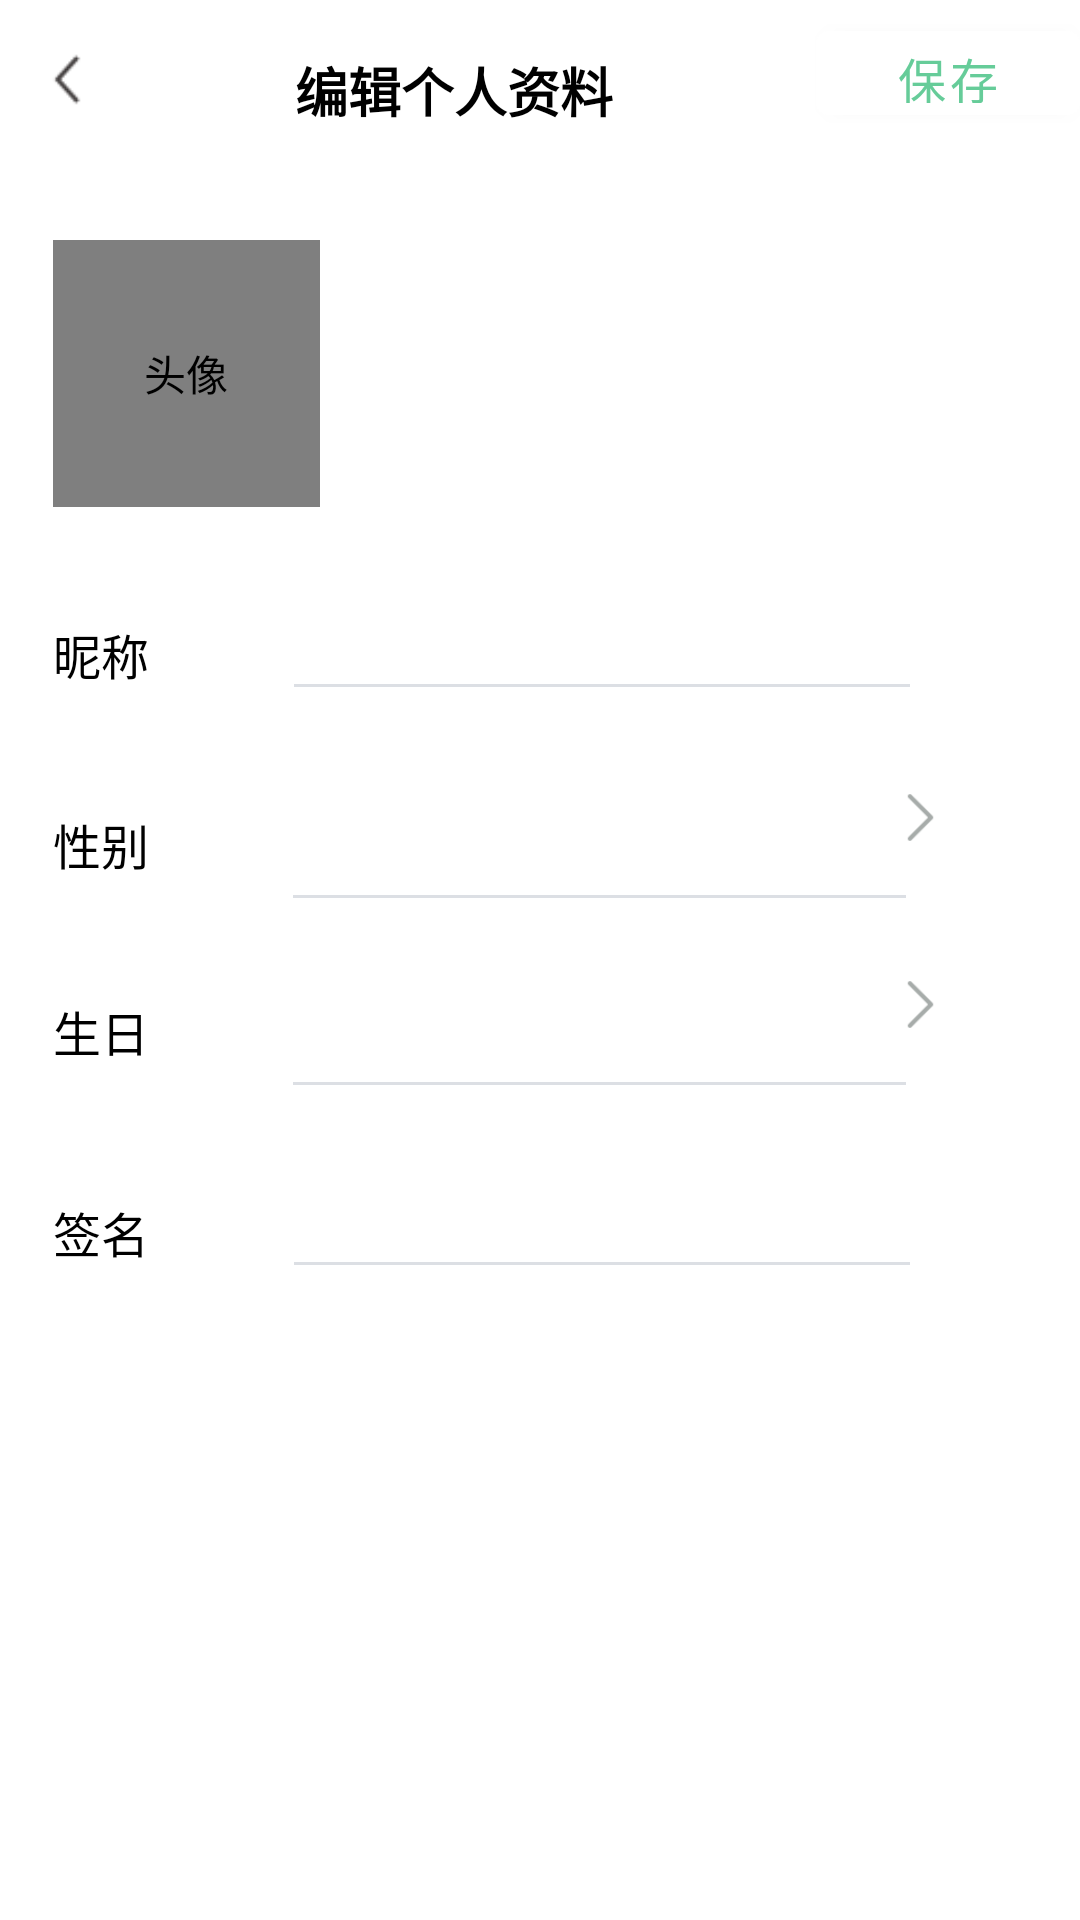

Named icons in this screenshot (1080 x 1920) and their bounding boxes, (x1, y1, x2, y2):
右边: (908, 794, 933, 841), (908, 981, 933, 1028)
返回: (55, 55, 80, 104)
